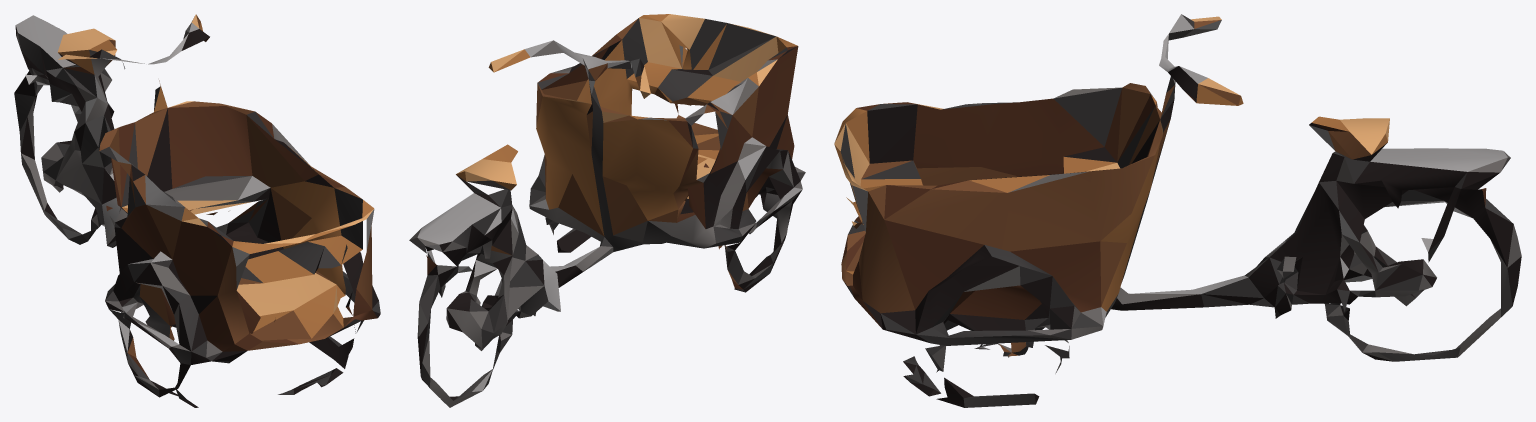
Rendered from cargo-bike.glb.
3 renders of one model, left to right at view 1: azimuth 30°, elevation 25°; view 2: azimuth 150°, elevation 25°; view 3: azimuth 270°, elevation 25°, orthographic. The views are drawn at different scales.
Visible parts, largest first — view 1: c5, c4, c1, c6, c3, c0, c2, c7; view 2: c0, c4, c3, c1, c6, c5, c2, c7; view 3: c1, c6, c5, c4, c3, c0, c2, c7.
Part boxes in pixels (x1=…): c5: x1=63, y1=37, x2=377, y2=378; c4: x1=14, y1=33, x2=380, y2=399; c1: x1=14, y1=25, x2=380, y2=407; c6: x1=99, y1=14, x2=373, y2=357; c3: x1=16, y1=19, x2=347, y2=389; c0: x1=58, y1=22, x2=373, y2=338; c2: x1=16, y1=15, x2=374, y2=352; c7: x1=57, y1=14, x2=373, y2=315; c0: x1=456, y1=14, x2=797, y2=235; c4: x1=409, y1=18, x2=805, y2=400; c3: x1=409, y1=37, x2=805, y2=407; c1: x1=417, y1=40, x2=801, y2=402; c6: x1=491, y1=18, x2=758, y2=284; c5: x1=426, y1=34, x2=798, y2=289; c2: x1=417, y1=40, x2=802, y2=391; c7: x1=457, y1=14, x2=778, y2=198; c1: x1=843, y1=66, x2=1521, y2=407; c6: x1=841, y1=20, x2=1371, y2=356; c5: x1=841, y1=88, x2=1486, y2=327; c4: x1=840, y1=14, x2=1512, y2=407; c3: x1=932, y1=29, x2=1521, y2=373; c0: x1=834, y1=84, x2=1387, y2=311; c2: x1=852, y1=14, x2=1507, y2=349; c7: x1=834, y1=16, x2=1389, y2=225.
Bounding box in the file's own units: 0.8804 × 1.08 × 2.18.
